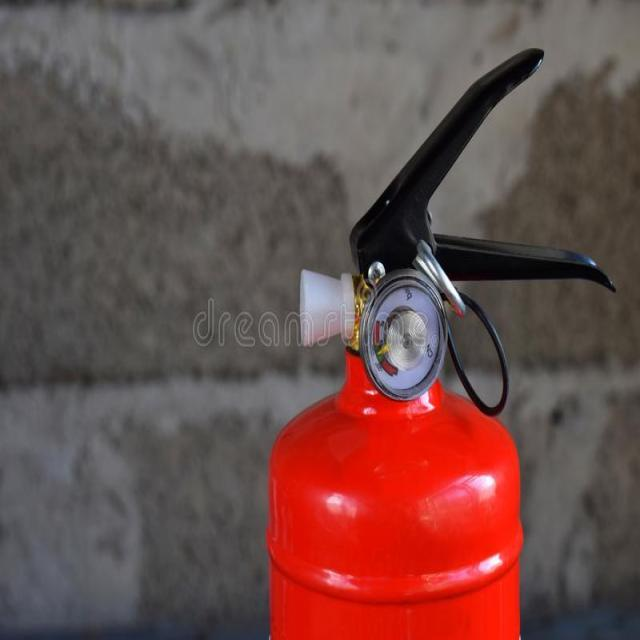fire_extinguisher: (262, 39, 620, 638)
